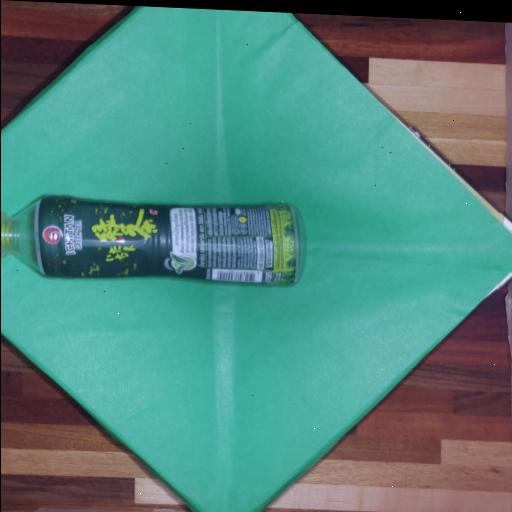bottle: (1, 196, 300, 285)
